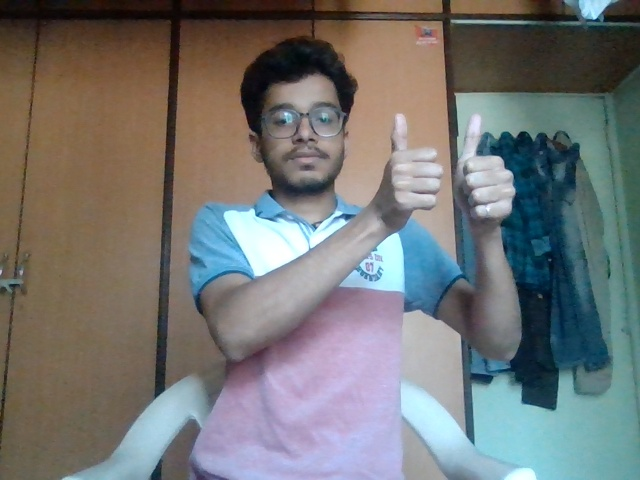thank-you: (375, 112, 526, 255)
